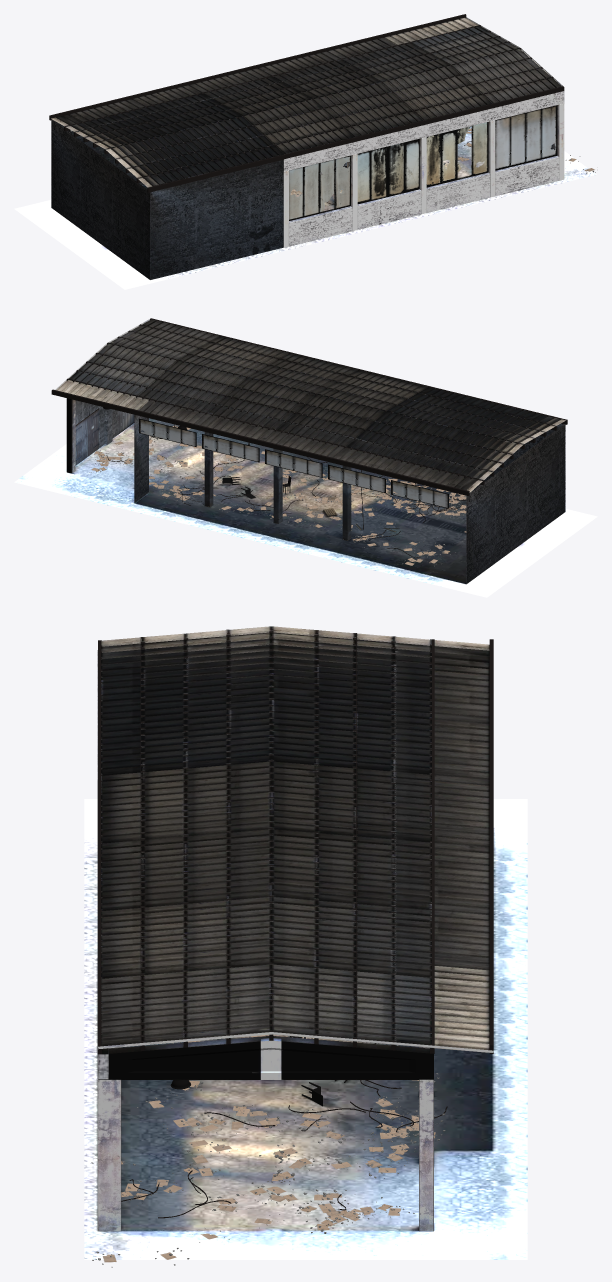
File: house-transformed.glb
3 views of the same model, one above another, from view 1: azimuth 30°, elevation 25°; view 2: azimuth 150°, elevation 25°; view 3: azimuth 270°, elevation 25° (orthographic). The views are drawn at different scales.
Parts seen in each view (by area): view 1: Plane.001, Plane.006, Plane.005, Plane.004, Cube, Plane, Cube.002, Cube.005, TexturesCom_WindowsBacklit0019_15_M, TexturesCom_WindowsBacklit0019_13_M, TexturesCom_WindowsBacklit0019_12_M, TexturesCom_WindowsBacklit0019_14_M (+4 smaller); view 2: Plane, Plane.006, Plane.001, Plane.004, TexturesCom_WindowsBacklit0019_13_M.002, TexturesCom_CardboardPlain0019_2_alphamasked_S.049, Cube.003, Cube.008, Cube.006, Cube.005, Icosphere.1295, Plane.002 (+4 smaller); view 3: Plane.006, Plane, Plane.001, Cube.004, TexturesCom_CardboardPlain0019_2_alphamasked_S.049, Cube.005, Cube.001, Cube.006, Cube.003, Icosphere.1295, Cube.008, BezierCurve.033.
Boxes of the visible parts, x1,y1,x2,y2 form: Plane.001: (105, 48, 562, 187); Plane.006: (51, 17, 520, 149); Plane.005: (150, 159, 283, 279); Plane.004: (51, 120, 150, 279); Cube: (289, 155, 559, 246); Plane: (14, 126, 596, 289); Cube.002: (283, 91, 564, 171); Cube.005: (104, 48, 564, 192); TexturesCom_WindowsBacklit0019_15_M: (357, 139, 419, 204); TexturesCom_WindowsBacklit0019_13_M: (495, 105, 557, 170); TexturesCom_WindowsBacklit0019_12_M: (289, 155, 350, 220); TexturesCom_WindowsBacklit0019_14_M: (426, 122, 488, 187); Plane: (14, 418, 597, 597); Plane.006: (55, 343, 523, 492); Plane.001: (108, 319, 565, 444); Plane.004: (466, 424, 565, 584); TexturesCom_WindowsBacklit0019_13_M.002: (139, 418, 448, 508); TexturesCom_CardboardPlain0019_2_alphamasked_S.049: (91, 425, 466, 565); Cube.003: (66, 398, 351, 540); Cube.008: (51, 389, 469, 495); Cube.006: (66, 353, 513, 485); Cube.005: (107, 318, 567, 449); Icosphere.1295: (89, 425, 466, 566); Plane.002: (134, 408, 148, 502); Plane.006: (271, 626, 493, 1052); Plane: (84, 799, 527, 1259); Plane.001: (98, 626, 271, 1049); Cube.004: (109, 1036, 433, 1079); TexturesCom_CardboardPlain0019_2_alphamasked_S.049: (103, 1035, 435, 1262); Cube.005: (98, 629, 273, 1054); Cube.001: (97, 1047, 121, 1231); Cube.006: (314, 630, 434, 1053); Cube.003: (419, 1047, 433, 1231); Icosphere.1295: (91, 1036, 445, 1267); Cube.008: (489, 639, 493, 1053); BezierCurve.033: (121, 1039, 447, 1218).
Size of what is drawn, in the model's own units: 33.74 by 6.74 by 13.49.
30 materials, 24 textured.
